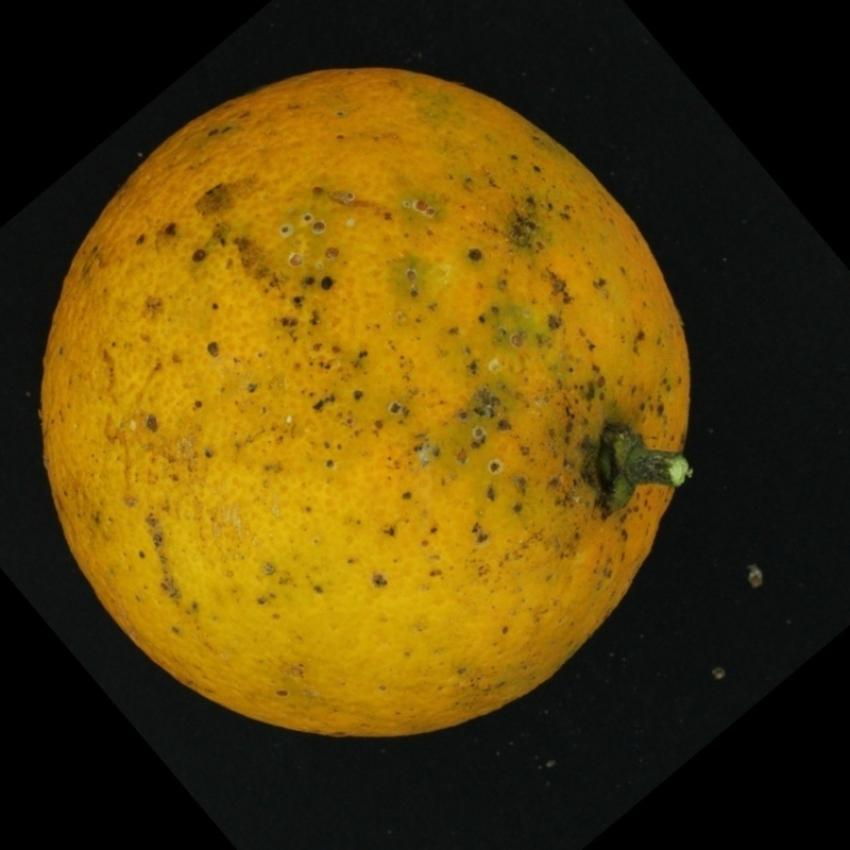Mal estado: (27, 56, 714, 744)
